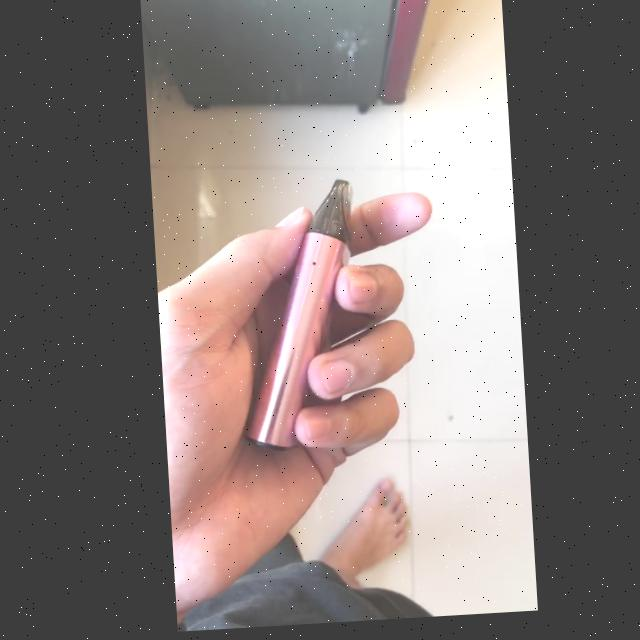vape: (224, 182, 363, 456)
